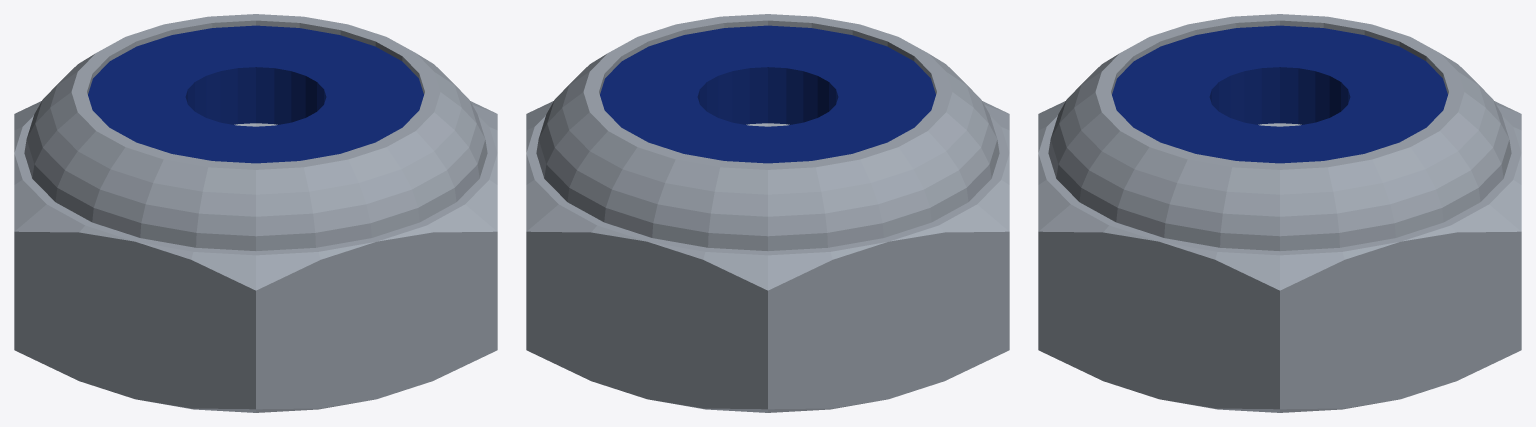
The model's file is model_display.glb.
3 renders of one model, left to right at view 1: azimuth 30°, elevation 25°; view 2: azimuth 150°, elevation 25°; view 3: azimuth 270°, elevation 25°, orthographic.
Visible parts, largest first — view 1: steel, nylon_insert; view 2: steel, nylon_insert; view 3: steel, nylon_insert.
Part boxes in pixels (box(x1,y1,x2,y2)): steel: box(14, 14, 497, 412); nylon_insert: box(88, 25, 423, 163); steel: box(526, 14, 1009, 412); nylon_insert: box(600, 25, 935, 163); steel: box(1038, 14, 1521, 412); nylon_insert: box(1112, 25, 1447, 163).
Size of the model in its own units: 0.00289 by 0.00125 by 0.0025.
